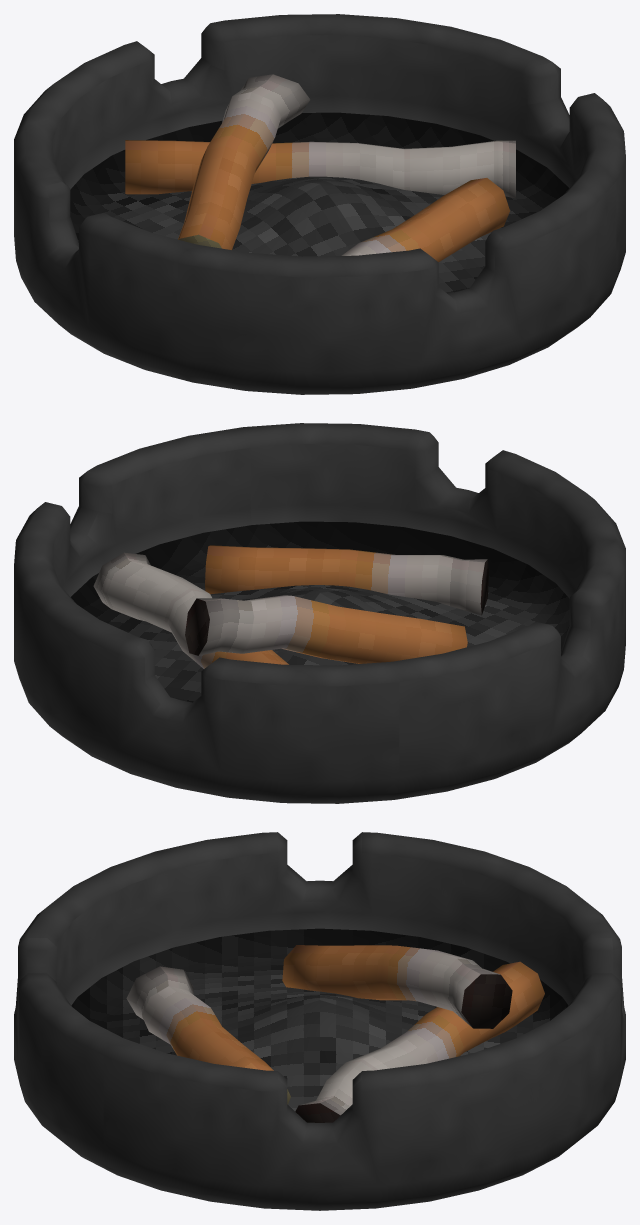
Rendered from ashtray_1.obj.
The picture shows the model from 3 angles, top to bottom: view 1: azimuth 30°, elevation 25°; view 2: azimuth 150°, elevation 25°; view 3: azimuth 270°, elevation 25°; orthographic projection.
Parts seen in each view (by area): view 1: ashtray_1; view 2: ashtray_1; view 3: ashtray_1.
Boxes of the visible parts, x1,y1,x2,y2 form: ashtray_1: [14, 14, 625, 394]; ashtray_1: [14, 423, 625, 803]; ashtray_1: [14, 832, 625, 1210].
Bounding box in the file's own units: 0.16 × 0.04 × 0.16.
